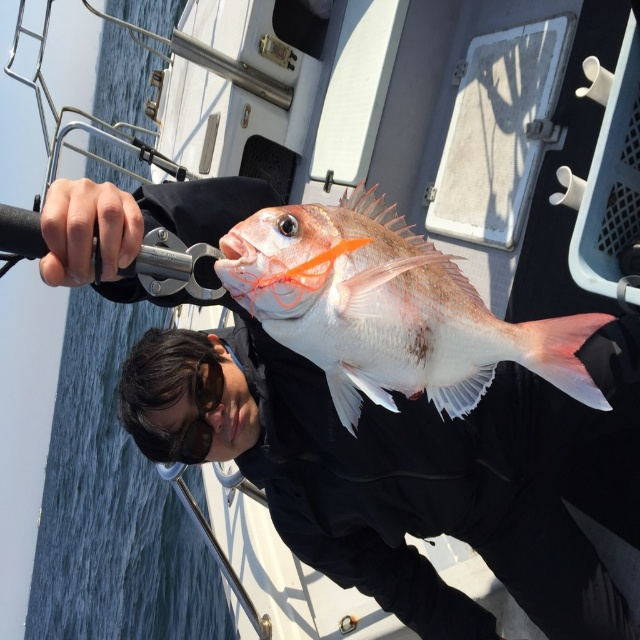Fish: (199, 187, 618, 440)
